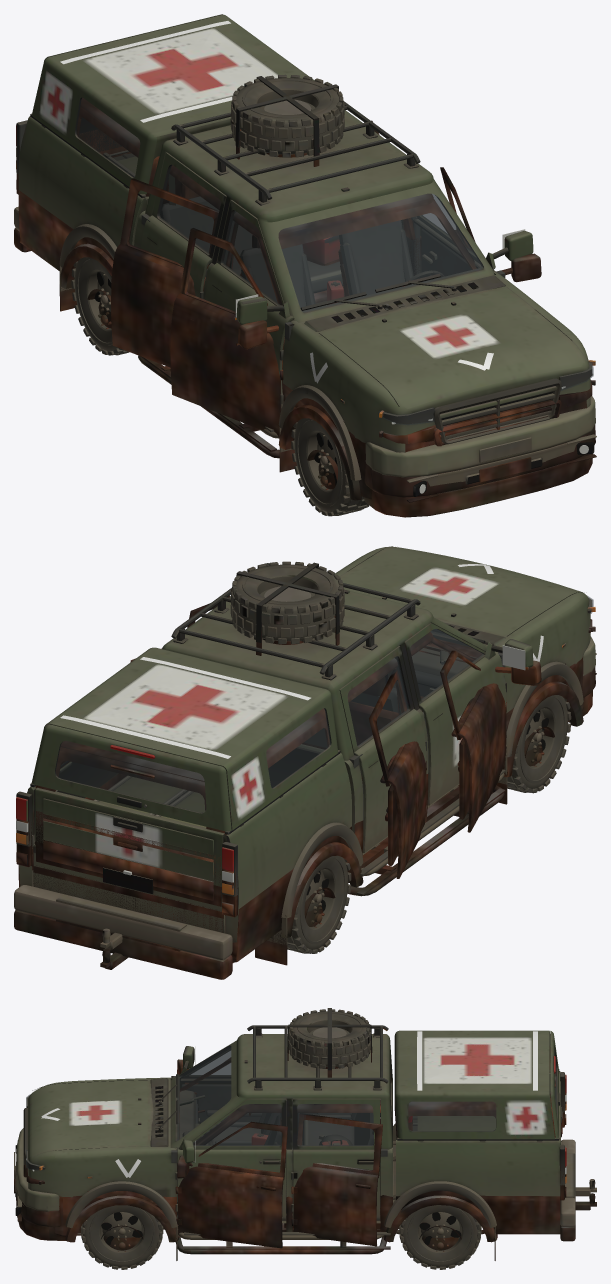
The model's file is pickup.glb.
The picture shows the model from 3 angles, top to bottom: view 1: azimuth 30°, elevation 25°; view 2: azimuth 150°, elevation 25°; view 3: azimuth 270°, elevation 25°; orthographic projection. The views are drawn at different scales.
Visible parts, largest first — view 1: hull_geo, hull_wreck, glass_geo, door_FR_geo, wheel_R1_geo, door_RR_geo, door_FL_geo, wheel_R2_geo, door_RR_glass, door_FR_glass, id_tape, tailgate_geo; view 2: hull_geo, hull_wreck, tailgate_geo, canopy_door_geo, door_FR_geo, canopy_door_glass, door_RR_geo, wheel_R2_geo, wheel_R1_geo, door_RR_glass, glass_geo, door_FR_glass (+1 smaller); view 3: hull_geo, hull_wreck, glass_geo, wheel_L2_geo, wheel_L1_geo, door_FL_geo, door_RL_geo, door_RL_glass, door_FL_glass, door_FR_geo, canopy_door_geo, id_tape (+1 smaller).
Boxes of the visible parts, <box> form: hull_geo: <box>14,14,596,496</box>; hull_wreck: <box>14,98,596,517</box>; glass_geo: <box>76,98,593,425</box>; door_FR_geo: <box>205,200,294,408</box>; wheel_R1_geo: <box>291,418,369,516</box>; door_RR_geo: <box>141,152,226,298</box>; door_FL_geo: <box>414,215,533,281</box>; wheel_R2_geo: <box>71,257,129,355</box>; door_RR_glass: <box>158,165,220,253</box>; door_FR_glass: <box>222,210,282,305</box>; id_tape: <box>60,21,232,122</box>; tailgate_geo: <box>79,117,121,151</box>; hull_geo: <box>14,546,596,959</box>; hull_wreck: <box>14,596,596,979</box>; tailgate_geo: <box>34,787,225,886</box>; canopy_door_geo: <box>31,724,231,831</box>; door_FR_geo: <box>404,623,533,805</box>; canopy_door_glass: <box>55,741,206,812</box>; door_RR_geo: <box>339,646,426,852</box>; wheel_R2_geo: <box>287,855,351,953</box>; wheel_R1_geo: <box>507,695,571,793</box>; door_RR_glass: <box>347,656,408,746</box>; glass_geo: <box>266,595,593,788</box>; door_FR_glass: <box>410,629,483,699</box>; hull_geo: <box>14,1008,596,1246</box>; hull_wreck: <box>14,1039,596,1260</box>; glass_geo: <box>26,1046,496,1170</box>; wheel_L2_geo: <box>399,1205,481,1269</box>; wheel_L1_geo: <box>81,1205,163,1269</box>; door_FL_geo: <box>175,1098,285,1220</box>; door_RL_geo: <box>291,1098,379,1220</box>; door_RL_glass: <box>297,1104,374,1145</box>; door_FL_glass: <box>193,1104,281,1145</box>; door_FR_geo: <box>179,1046,262,1135</box>; canopy_door_geo: <box>550,1031,560,1138</box>; id_tape: <box>417,1031,537,1090</box>.
Size of what is drawn, in the model's own units: 2.45 by 2.19 by 5.64.
Materials: 6 (2 with a texture image).
